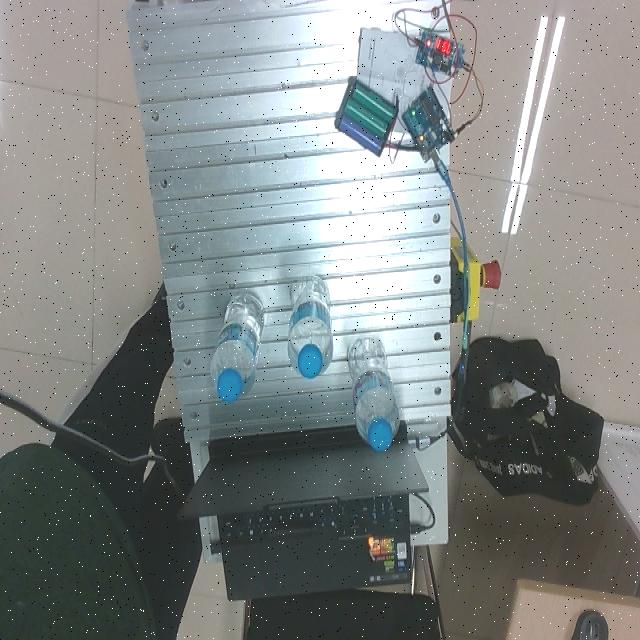lavie: (211, 291, 265, 400), (349, 337, 400, 452), (287, 277, 334, 380)
